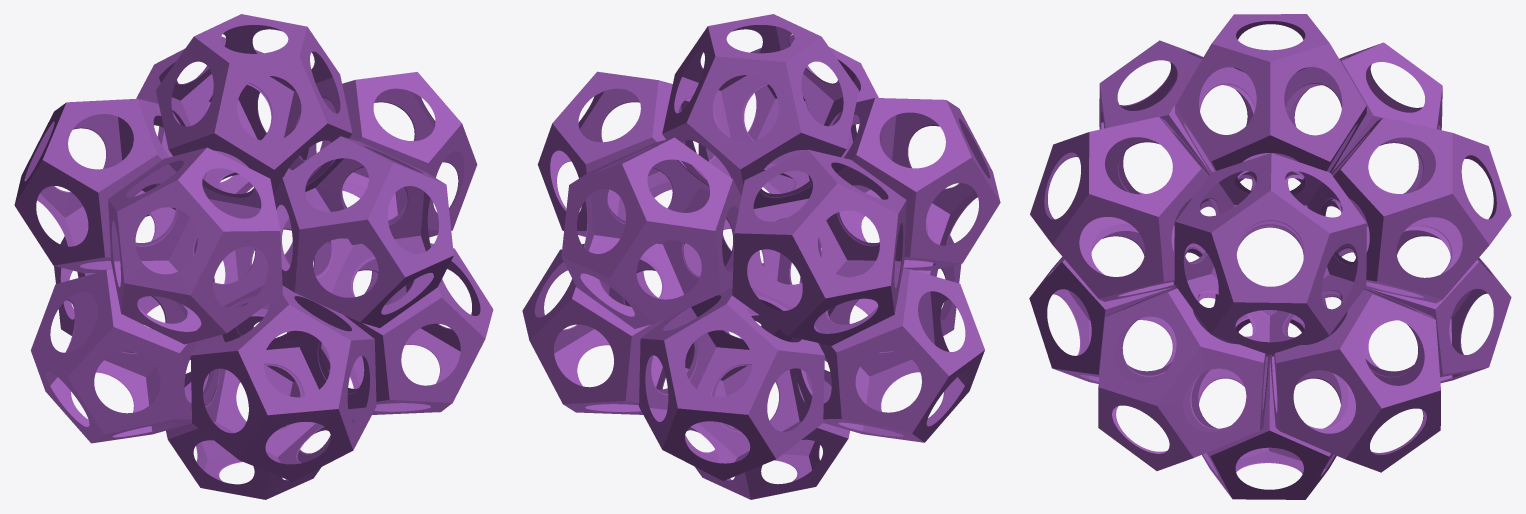
File: chimplino_1.glb
3 renders of one model, left to right at view 1: azimuth 30°, elevation 25°; view 2: azimuth 150°, elevation 25°; view 3: azimuth 270°, elevation 25°, orthographic.
Parts seen in each view (by area): view 1: Icosphere.001; view 2: Icosphere.001; view 3: Icosphere.001.
Boxes of the visible parts, box(x1,y1,x2,y2) form: Icosphere.001: box(14, 14, 493, 499); Icosphere.001: box(522, 14, 1000, 499); Icosphere.001: box(1029, 14, 1511, 499).
Bounding box in the file's own units: 2.83 × 2.87 × 2.82.
